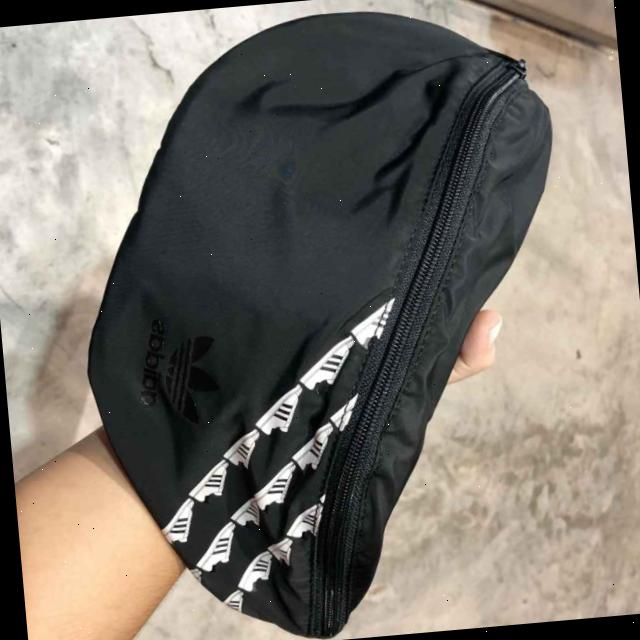Handbag: (50, 0, 614, 640)
